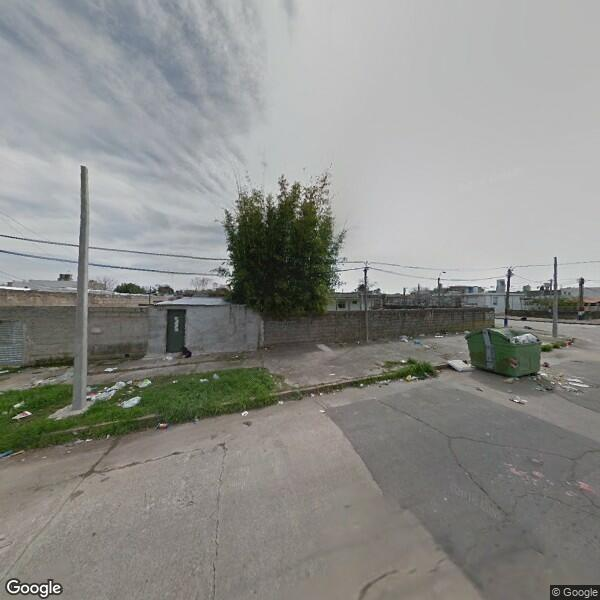Dechets: (535, 375, 593, 396), (88, 386, 118, 404), (448, 357, 473, 373), (9, 406, 34, 420), (121, 397, 142, 411), (102, 381, 131, 391), (408, 370, 426, 385), (138, 376, 153, 392), (509, 395, 529, 407), (432, 327, 449, 340), (399, 333, 414, 346), (100, 365, 120, 373), (197, 376, 210, 383), (241, 409, 250, 416), (278, 398, 284, 408)
Trash: (466, 326, 546, 376)
